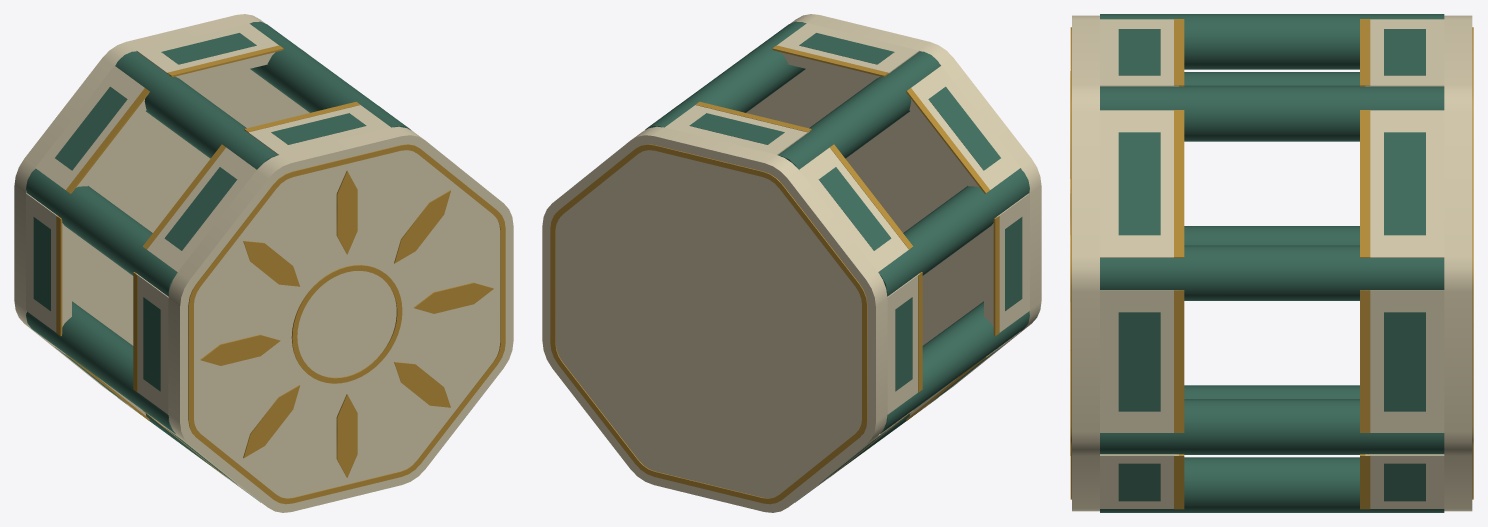
The model's file is h5_housing.obj.
3 renders of one model, left to right at view 1: azimuth 30°, elevation 25°; view 2: azimuth 150°, elevation 25°; view 3: azimuth 270°, elevation 25°, orthographic. The views are drawn at different scales.
Parts seen in each view (by area): view 1: h5_housing; view 2: h5_housing; view 3: h5_housing.
Boxes of the visible parts, x1,y1,x2,y2 form: h5_housing: [14, 14, 513, 512]; h5_housing: [542, 14, 1041, 512]; h5_housing: [1070, 14, 1473, 512].
Bounding box in the file's own units: 2.48 × 2.48 × 2.14.
